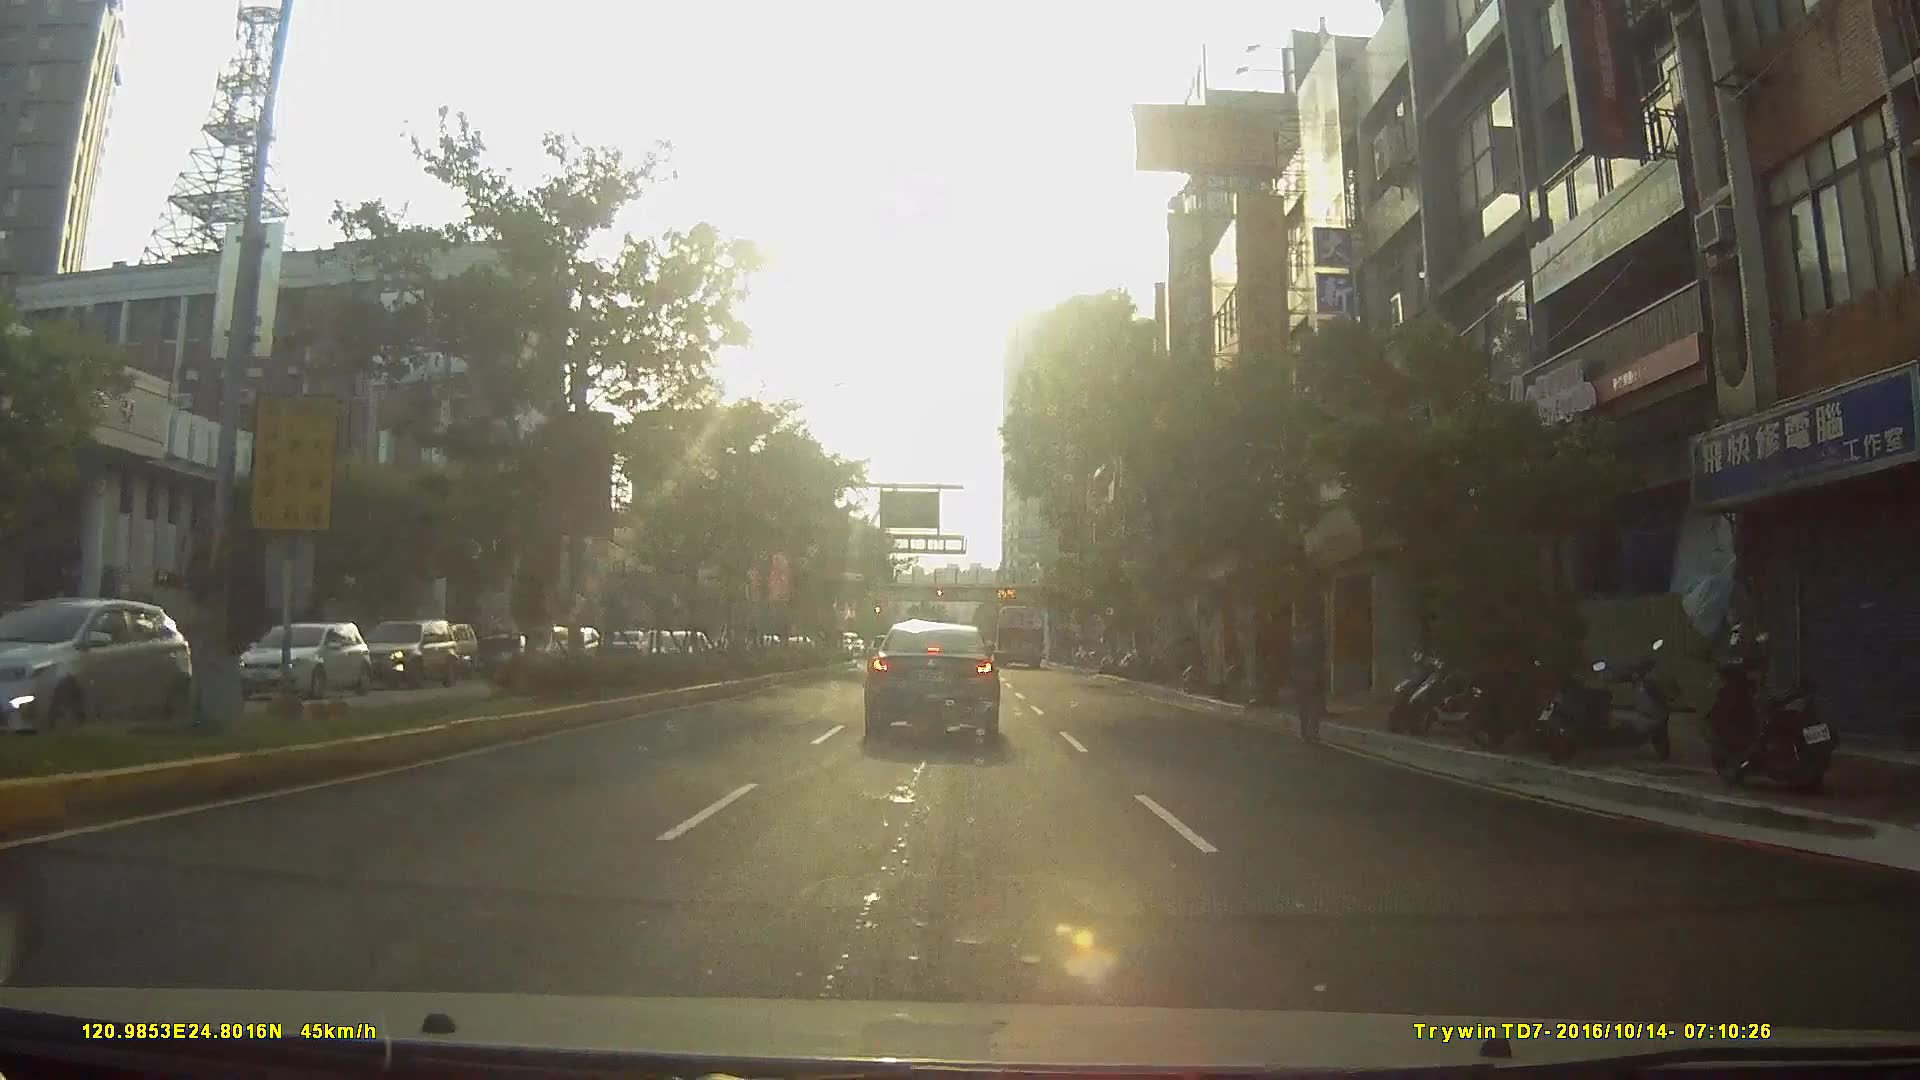pedestrian: (1288, 617, 1335, 746)
vehicle: (1, 595, 217, 738), (862, 618, 1000, 736), (221, 618, 386, 711), (339, 621, 466, 700), (410, 618, 477, 676), (994, 599, 1045, 666)
